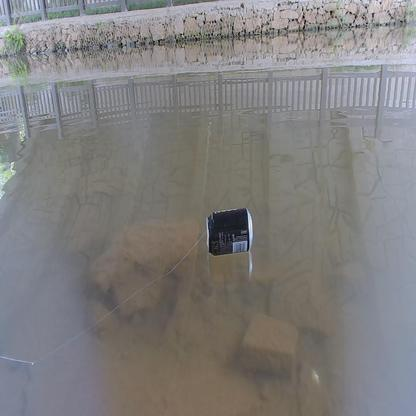can: (204, 208, 254, 255)
